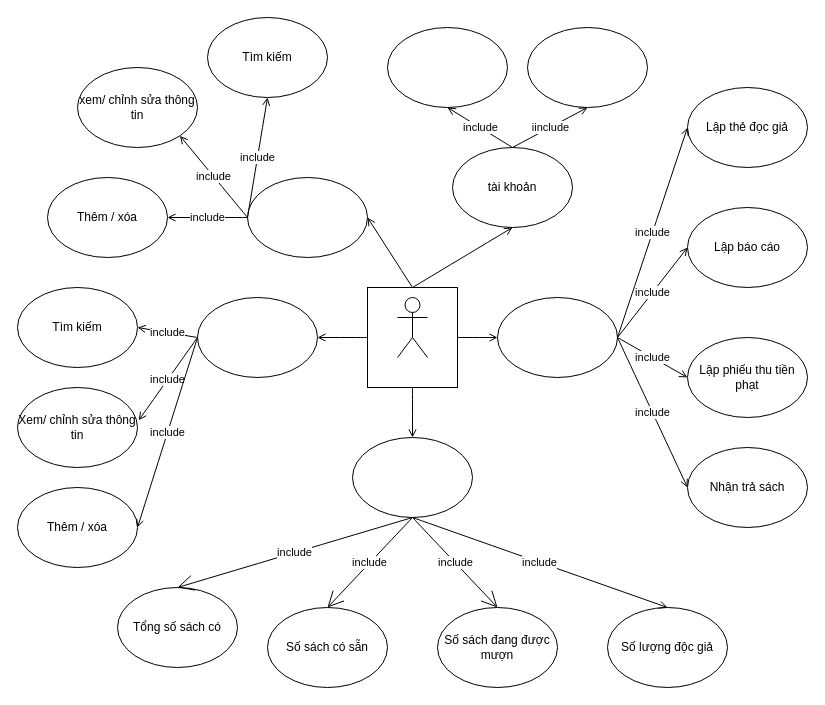
Image size: 825x705. Some labels were removed from this diagram. The centre of each missing label's shape, as x and y in pixels:
"nhân viên" goes at (x=412, y=327).
"Quản lý mượn sách" goes at (x=557, y=337).
"Quản lý sách" goes at (x=307, y=217).
"Quản lý độc giả" goes at (x=257, y=337).
"Thồng kê" goes at (x=412, y=477).
"Đăng nhập" goes at (x=447, y=67).
"Đăng xuất" goes at (x=587, y=67).
